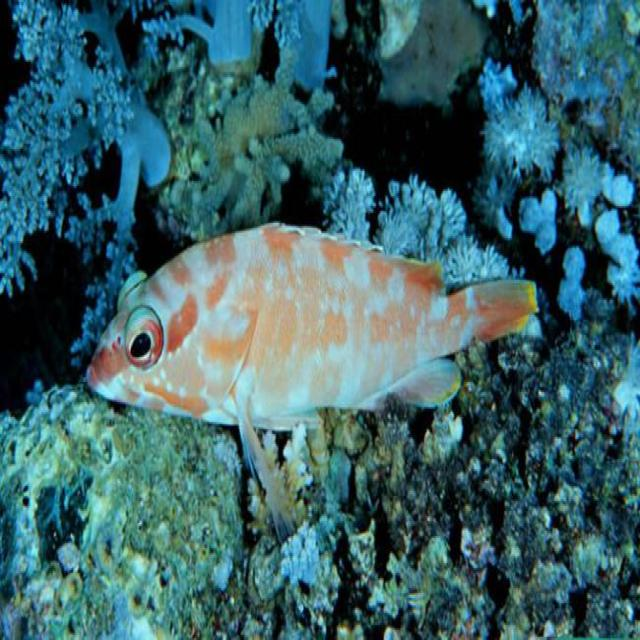ikan: (83, 218, 540, 543)
